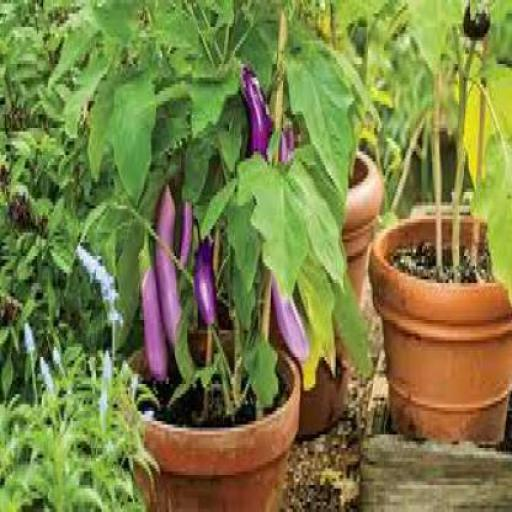biodegradable: (274, 108, 308, 364), (153, 175, 184, 354), (136, 222, 167, 385), (238, 64, 269, 165), (192, 222, 215, 331), (177, 186, 192, 276), (463, 0, 490, 41)
